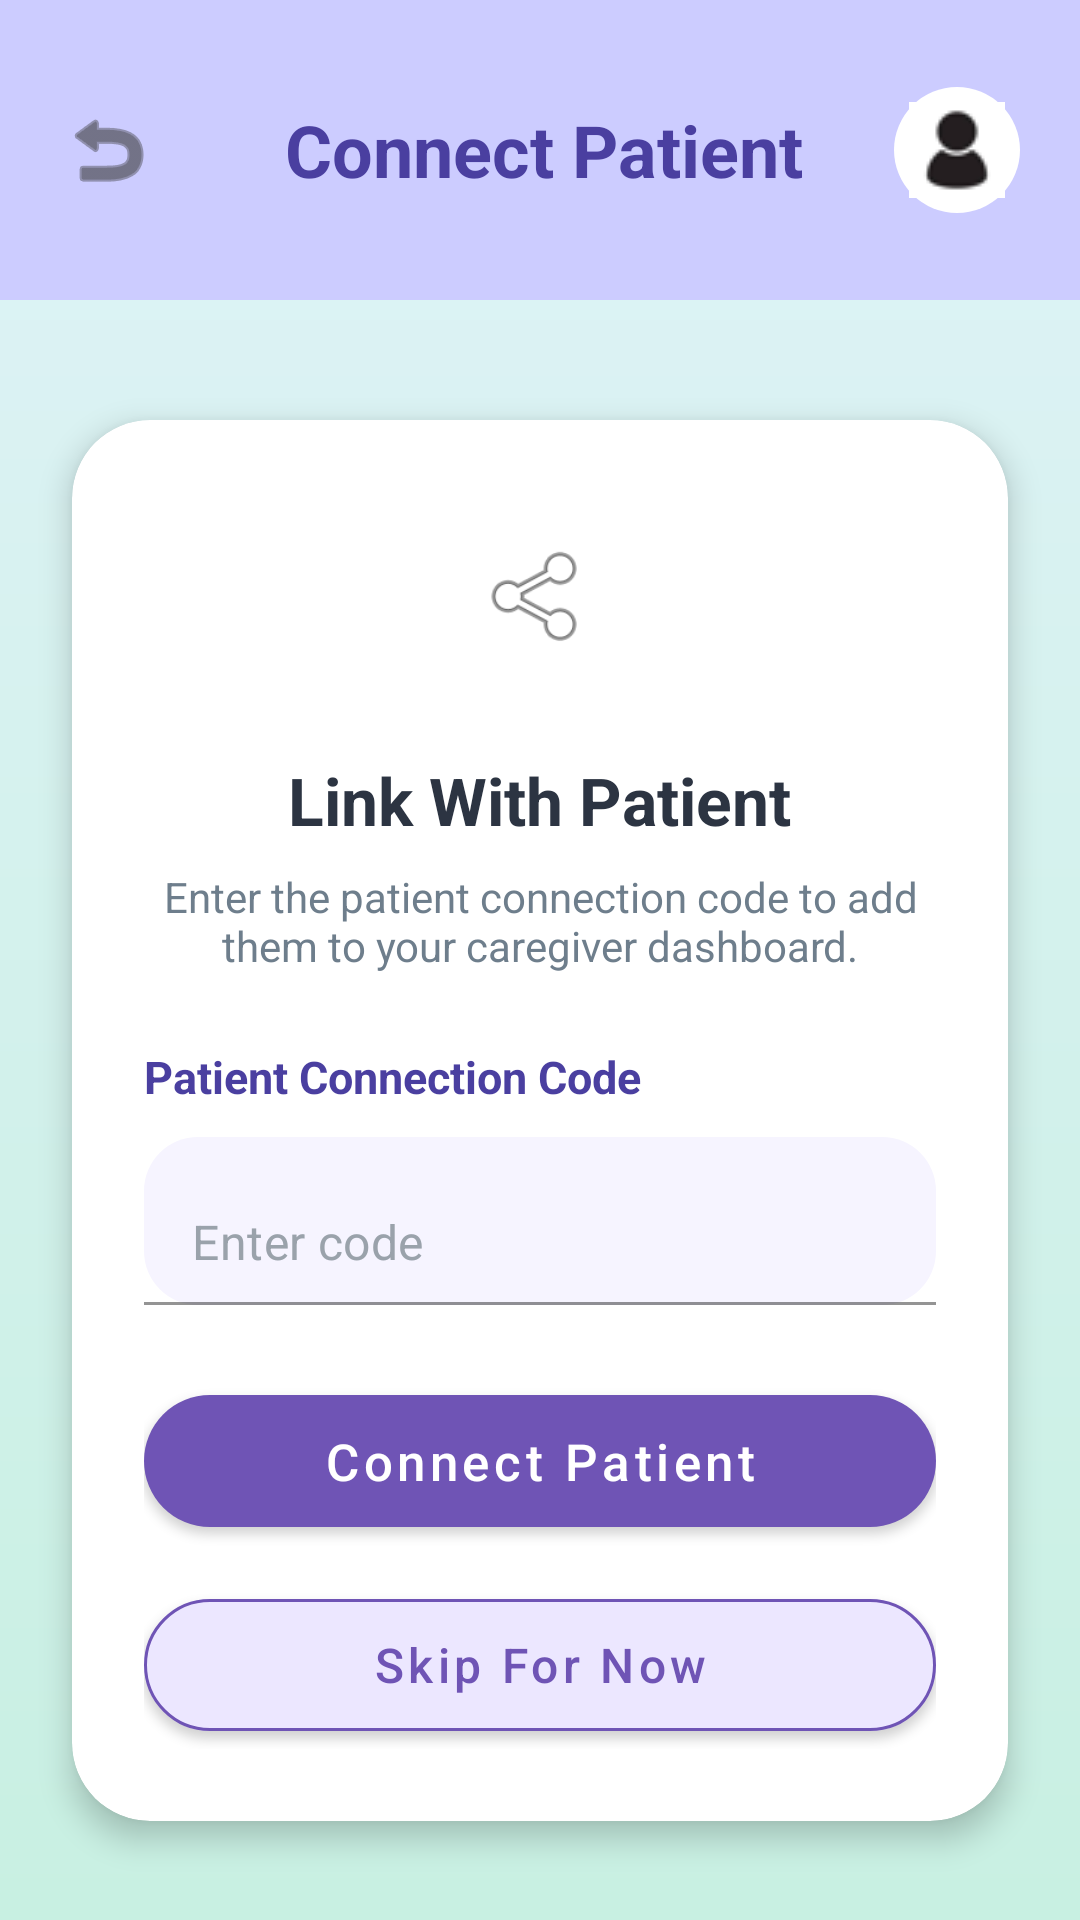

Icon click points for this 1080 × 1920 phone screenshot, format (x=x, y=y):
Back: (x=109, y=150)
Profile: (x=957, y=150)
share: (x=534, y=596)
